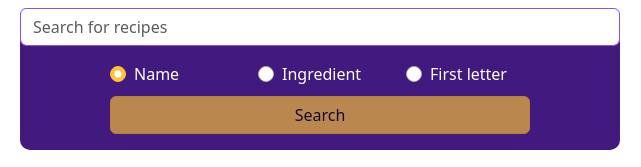
it: page: Recipes - components: RecipesFilterBySearch › is not possible to make a search for recipes by first letter with more than one letter
Step 1. Click the radio button labelled "First letter" → (414, 74), box [406,66,422,82]
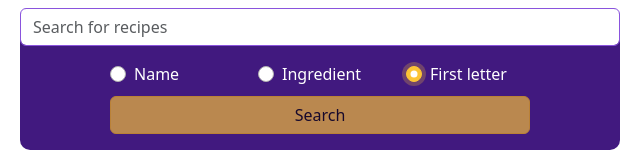
Step 2. Type "more than one letter" into the field labelled "Search for recipes" → (320, 27), box [20,8,620,46]
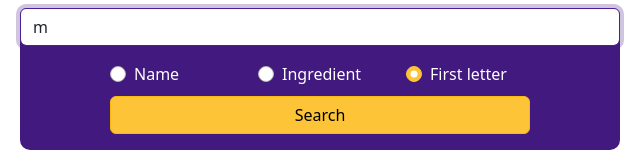
Check: the field named "Search for recipes" holds "m", box [20,8,620,46]
